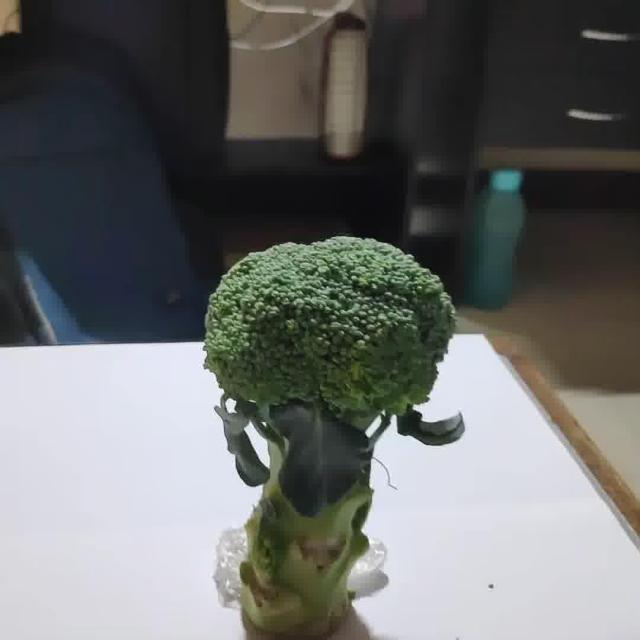Broccoli: (204, 236, 461, 639)
